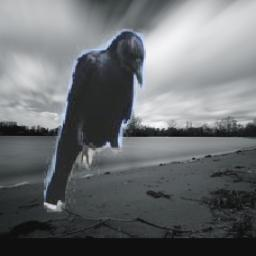Crow: (45, 30, 147, 213)
